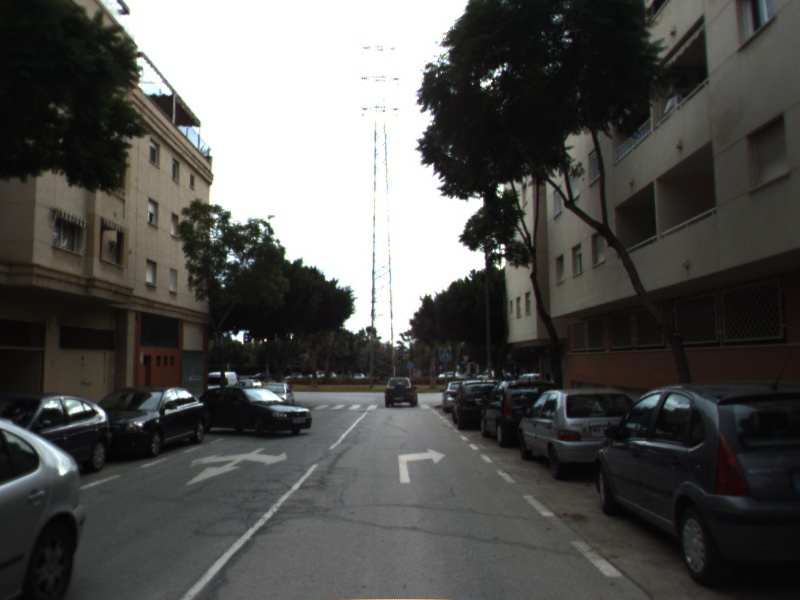RIGHT: (396, 446, 448, 485)
